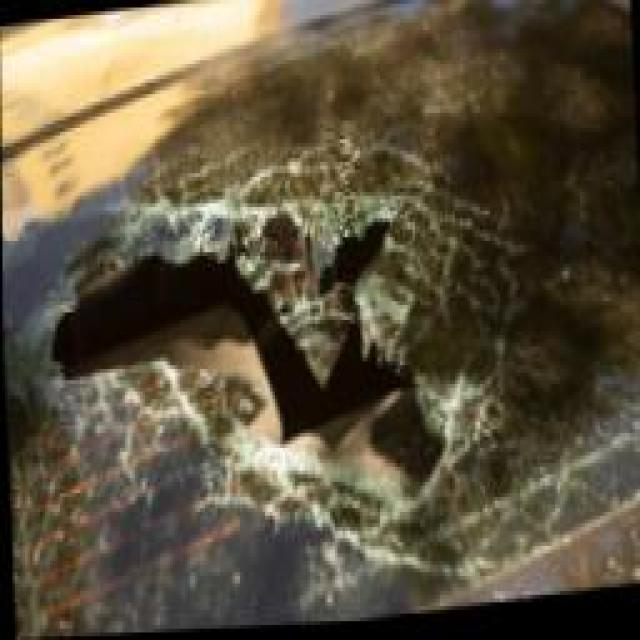Windshield: (55, 53, 567, 621)
